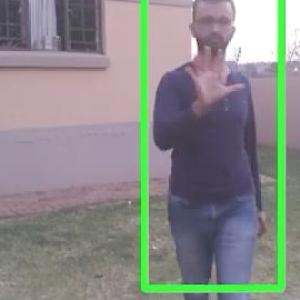follow_hand: (178, 40, 249, 104)
